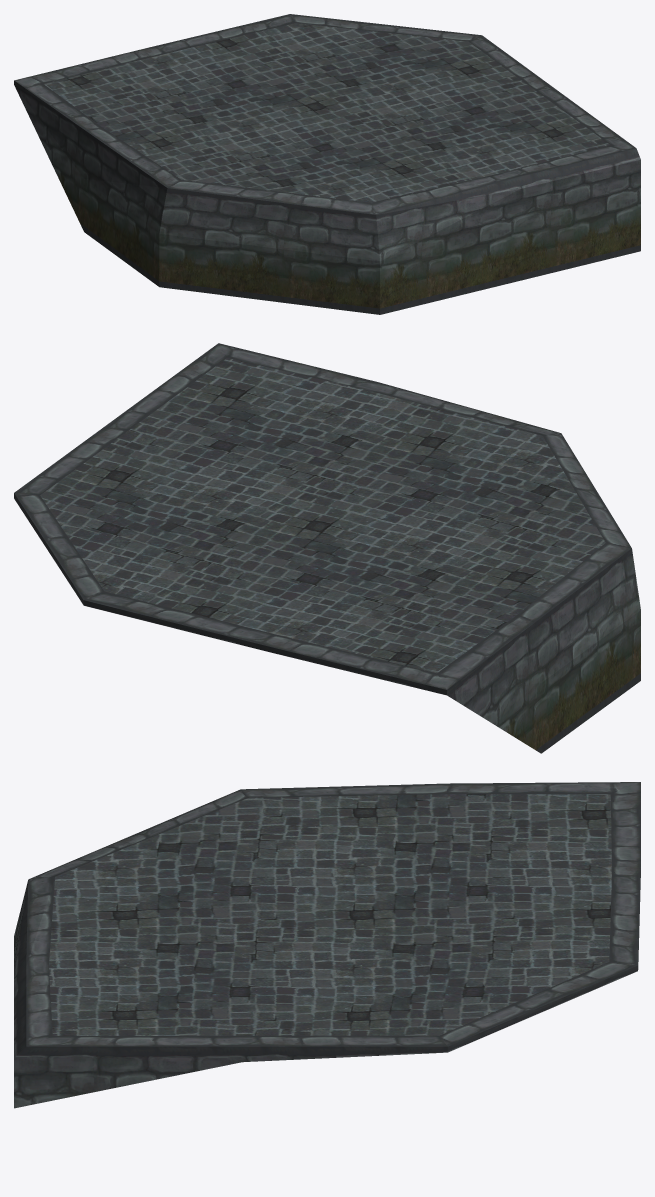
The model's file is terrain_towncenterstone04.fbx.
3 renders of one model, top to bottom at view 1: azimuth 30°, elevation 25°; view 2: azimuth 150°, elevation 25°; view 3: azimuth 270°, elevation 25°, orthographic. The views are drawn at different scales.
Visible parts, largest first — view 1: obj1.059; view 2: obj1.059; view 3: obj1.059.
Part boxes in pixels (<box>): obj1.059: <box>14,14,640,314</box>; obj1.059: <box>14,343,640,753</box>; obj1.059: <box>14,782,640,1108</box>.
Bounding box in the file's own units: 12.32 × 2.95 × 12.32.
